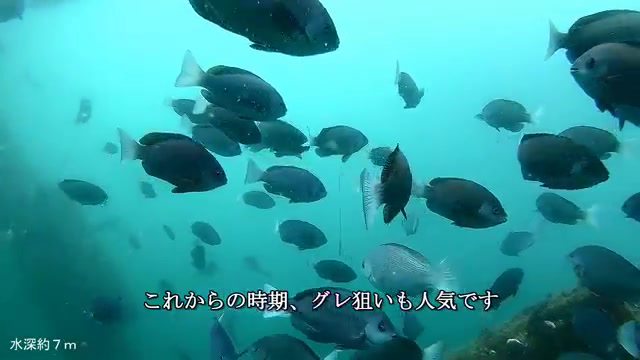gure: (115, 120, 236, 204), (410, 164, 519, 241), (240, 152, 330, 209), (478, 91, 547, 138), (268, 212, 333, 259), (297, 123, 373, 162)
